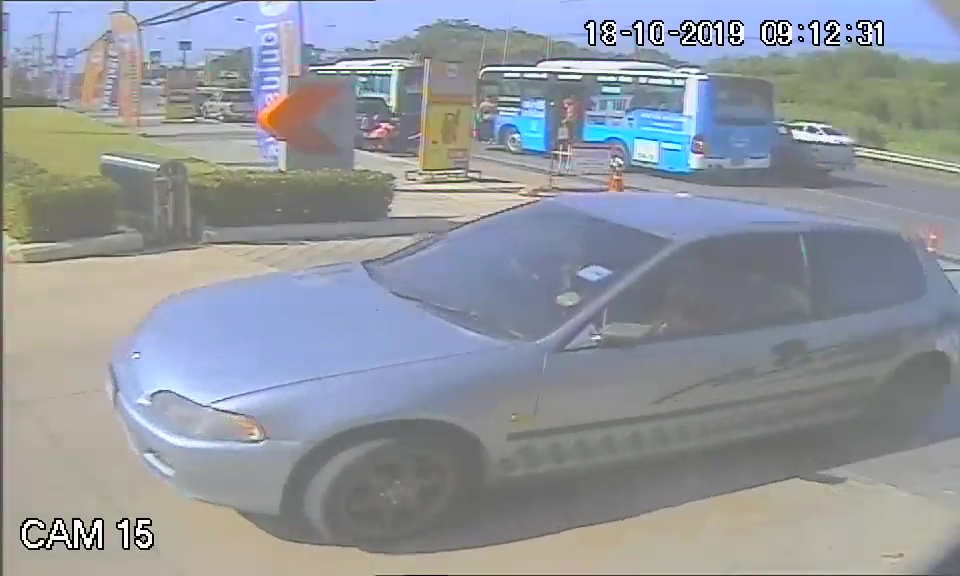sedan: (107, 192, 955, 542)
